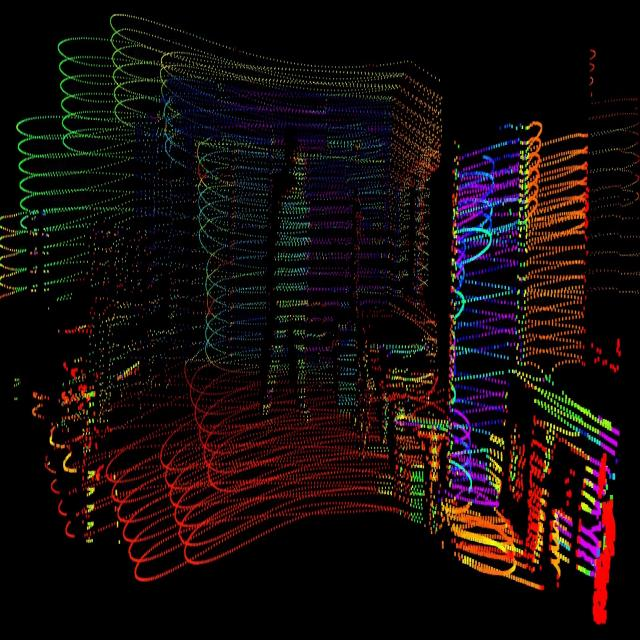human: (259, 140, 318, 434)
